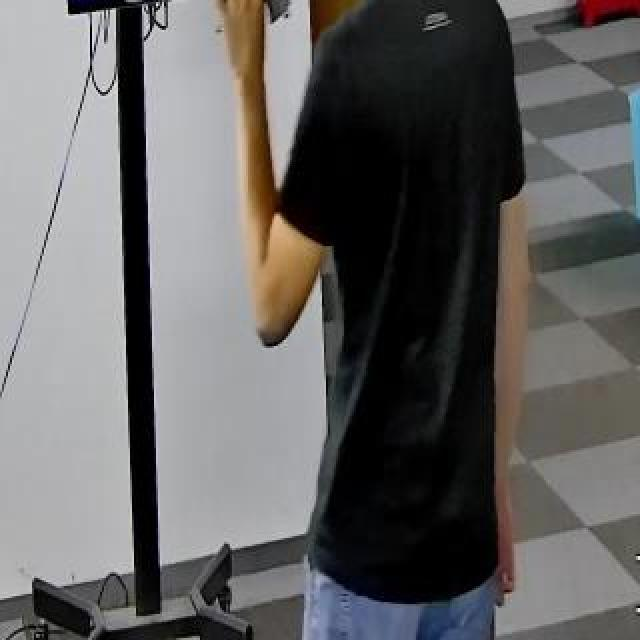Guns: (188, 0, 336, 38)
